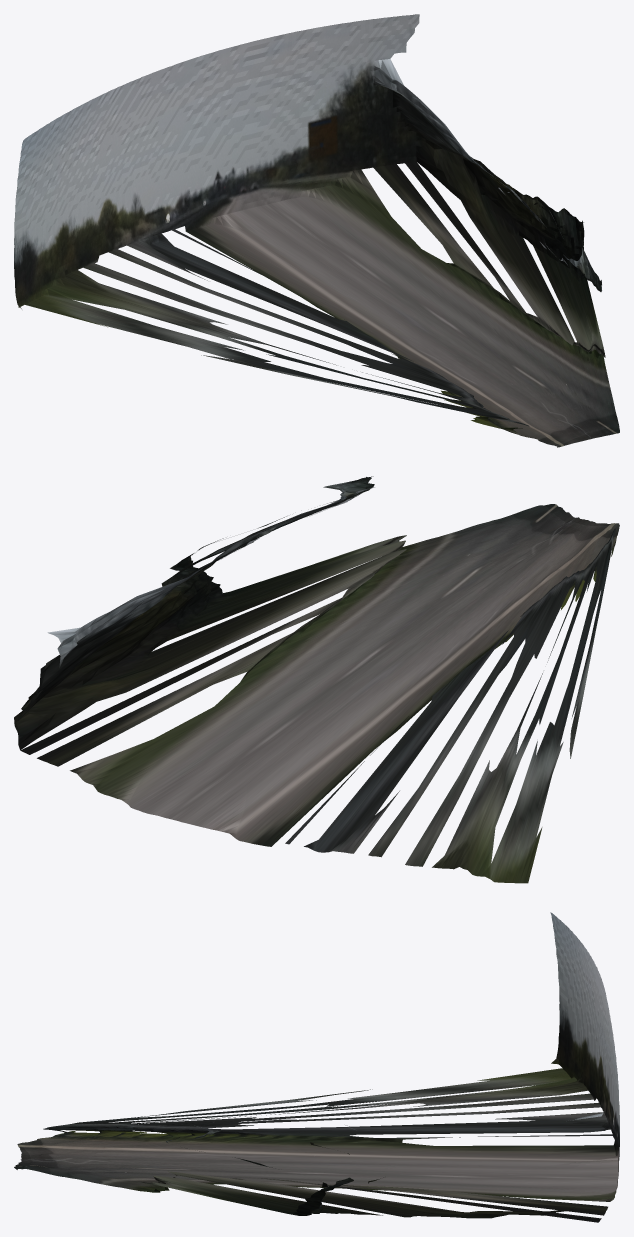
3 views of the same model, one above another, from view 1: azimuth 30°, elevation 25°; view 2: azimuth 150°, elevation 25°; view 3: azimuth 270°, elevation 25° (orthographic). The views are drawn at different scales.
Visible parts, largest first — view 1: defaultobject; view 2: defaultobject; view 3: defaultobject.
Part boxes in pixels (box(x1,y1,x2,y2)): defaultobject: box(14, 14, 619, 447); defaultobject: box(14, 476, 619, 883); defaultobject: box(14, 912, 619, 1222).
Bounding box in the file's own units: 33.74 × 13.32 × 44.85.
Materials: 1 (1 with a texture image).
